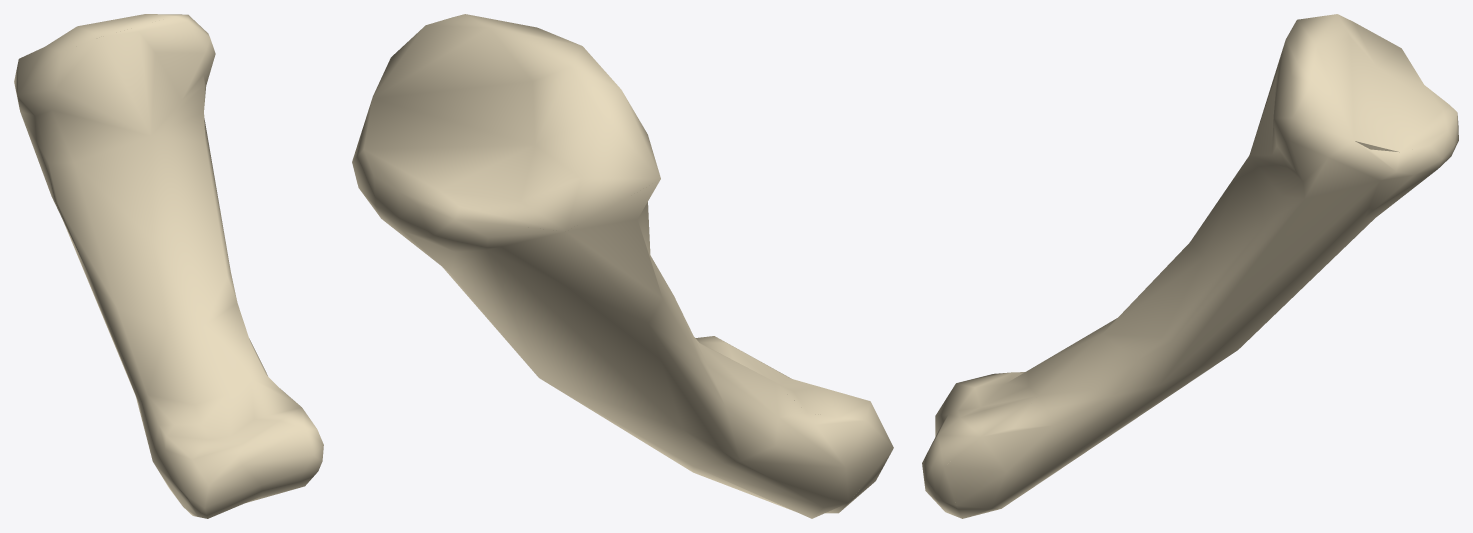
Rendered from esqueleto-middle-phalanx-of-fourth-finger-of-hand-r.glb.
The picture shows the model from 3 angles, left to right: view 1: azimuth 30°, elevation 25°; view 2: azimuth 150°, elevation 25°; view 3: azimuth 270°, elevation 25°; orthographic projection. The views are drawn at different scales.
Visible parts, largest first — view 1: Middle phalanx of fourth finger of hand.r; view 2: Middle phalanx of fourth finger of hand.r; view 3: Middle phalanx of fourth finger of hand.r.
Boxes of the visible parts, x1=… form: Middle phalanx of fourth finger of hand.r: x1=14, y1=14, x2=323, y2=518; Middle phalanx of fourth finger of hand.r: x1=352, y1=14, x2=893, y2=518; Middle phalanx of fourth finger of hand.r: x1=922, y1=14, x2=1458, y2=518.
Bounding box in the file's own units: 0.0126 × 0.0247 × 0.025.
